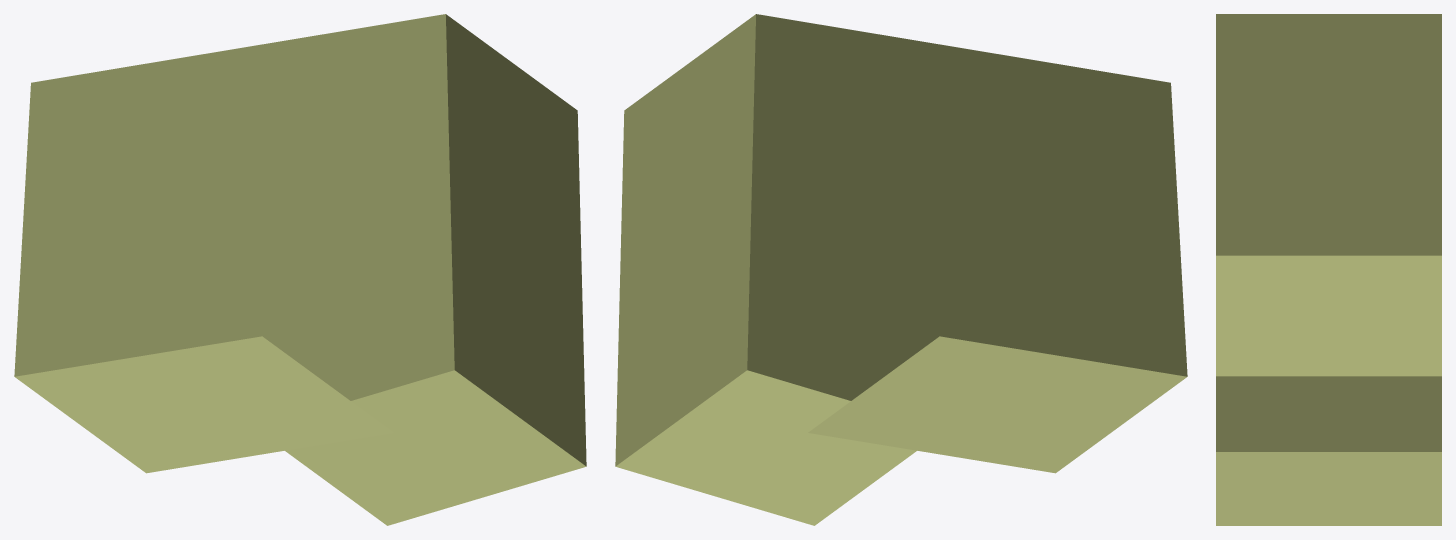
The picture shows the model from 3 angles, left to right: view 1: azimuth 30°, elevation 25°; view 2: azimuth 150°, elevation 25°; view 3: azimuth 270°, elevation 25°; orthographic projection. The views are drawn at different scales.
Parts seen in each view (by area): view 1: 0_1_0_2_1_3_0_1_3_3; view 2: 0_1_0_2_1_3_0_1_3_3; view 3: 0_1_0_2_1_3_0_1_3_3.
Boxes of the visible parts, x1,y1,x2,y2 form: 0_1_0_2_1_3_0_1_3_3: (14,14,586,525); 0_1_0_2_1_3_0_1_3_3: (615,14,1187,525); 0_1_0_2_1_3_0_1_3_3: (1216,14,1441,525).
Size of the model in its own units: 11.57 by 10.08 by 6.
